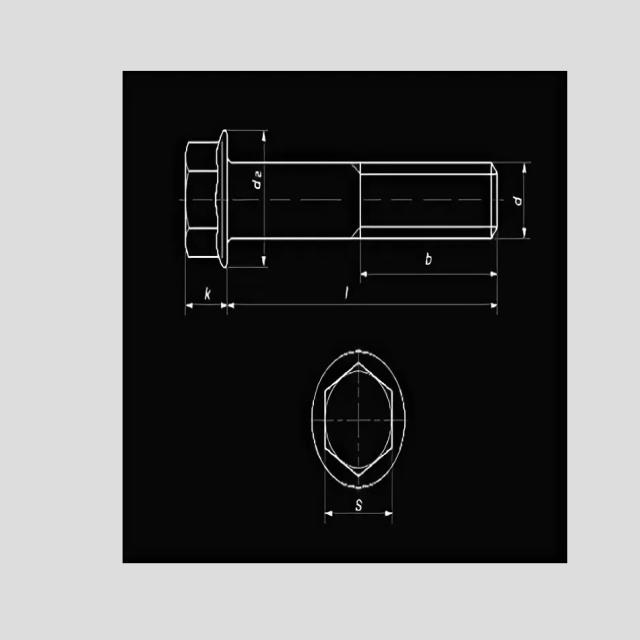marking_line: (226, 270, 501, 314), (359, 242, 503, 281), (500, 161, 534, 239), (321, 492, 395, 525), (183, 271, 231, 315), (229, 127, 270, 160), (229, 243, 270, 271)
numeric: (511, 194, 522, 207), (203, 284, 211, 301), (251, 178, 261, 191), (356, 498, 363, 512), (425, 253, 432, 266), (345, 284, 349, 300), (255, 170, 263, 178)
